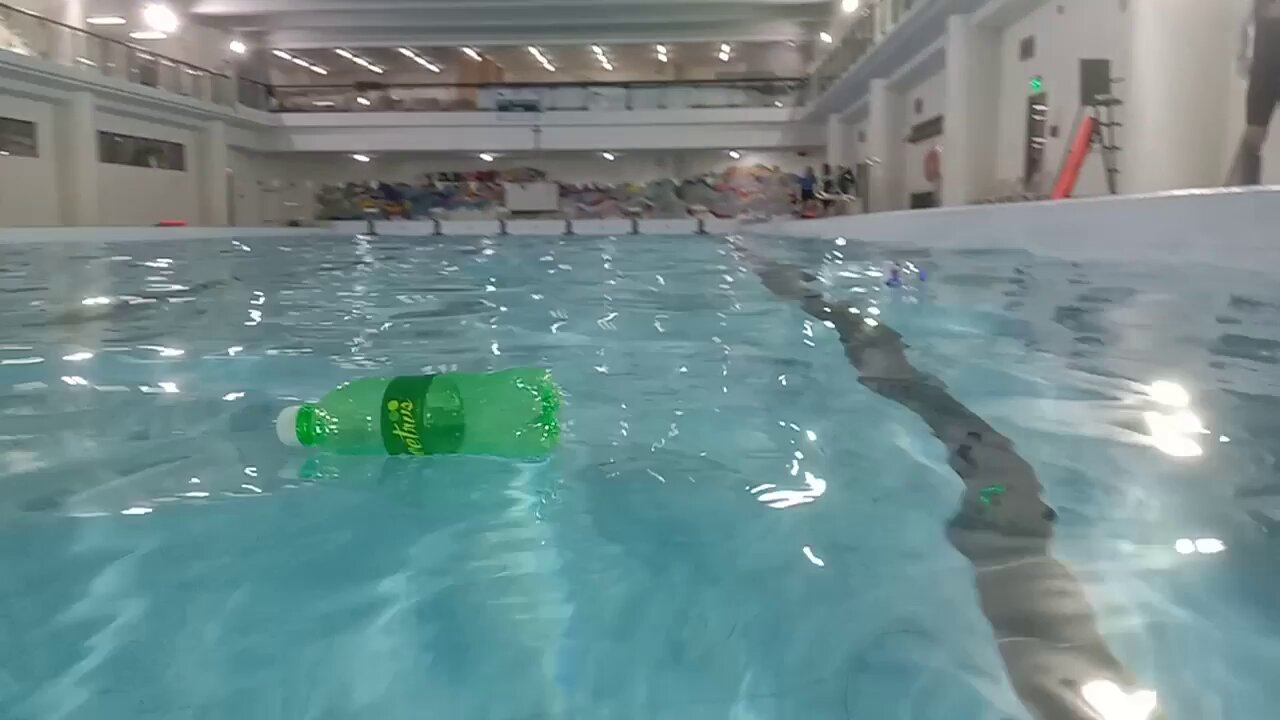plastic_bottle: (276, 368, 561, 459), (816, 257, 932, 293)
